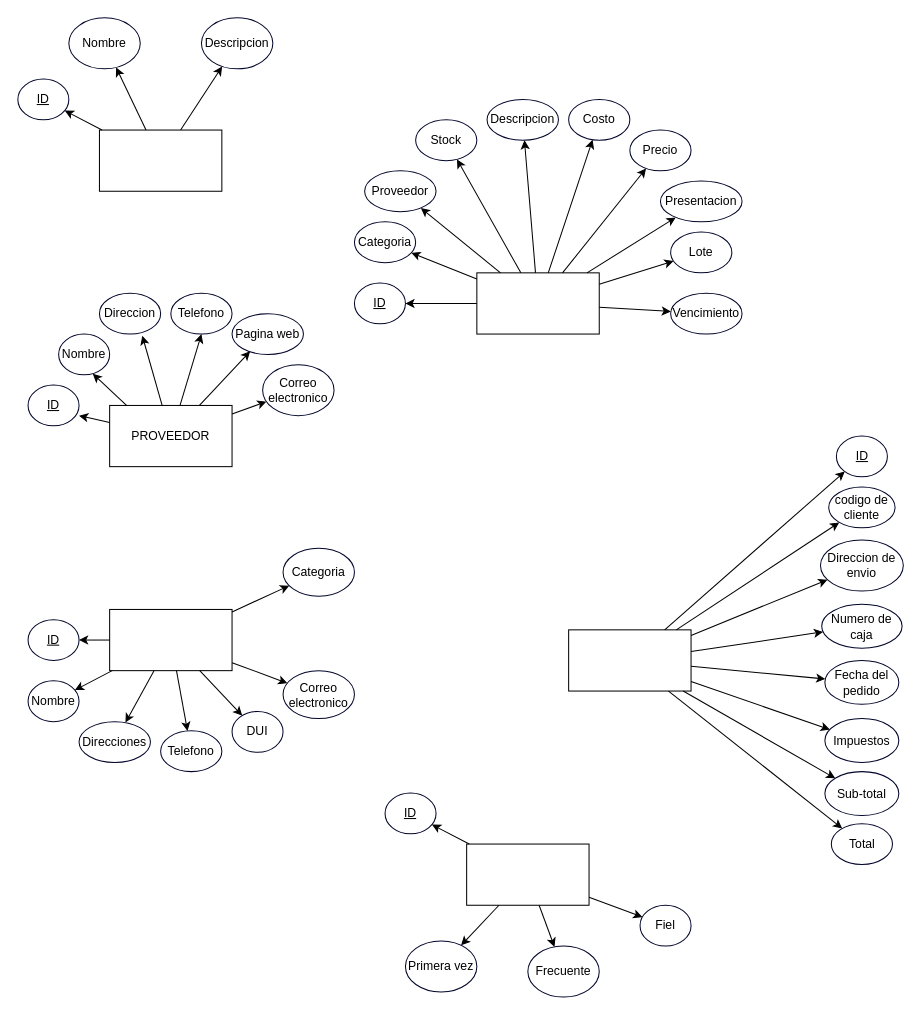
This 922x1015 diagram has some shape labels left out. Here are the shapes that lost their labels. From the top down, the centre of each, then its label:
At (160,160): "CATEGORIA DE PRODUCTO".
At (537,303): "PRODUCTO".
At (170,639): "CLIENTE".
At (629,660): "PEDIDO".
At (527,874): "CATEGORIA DE CLIENTE".
